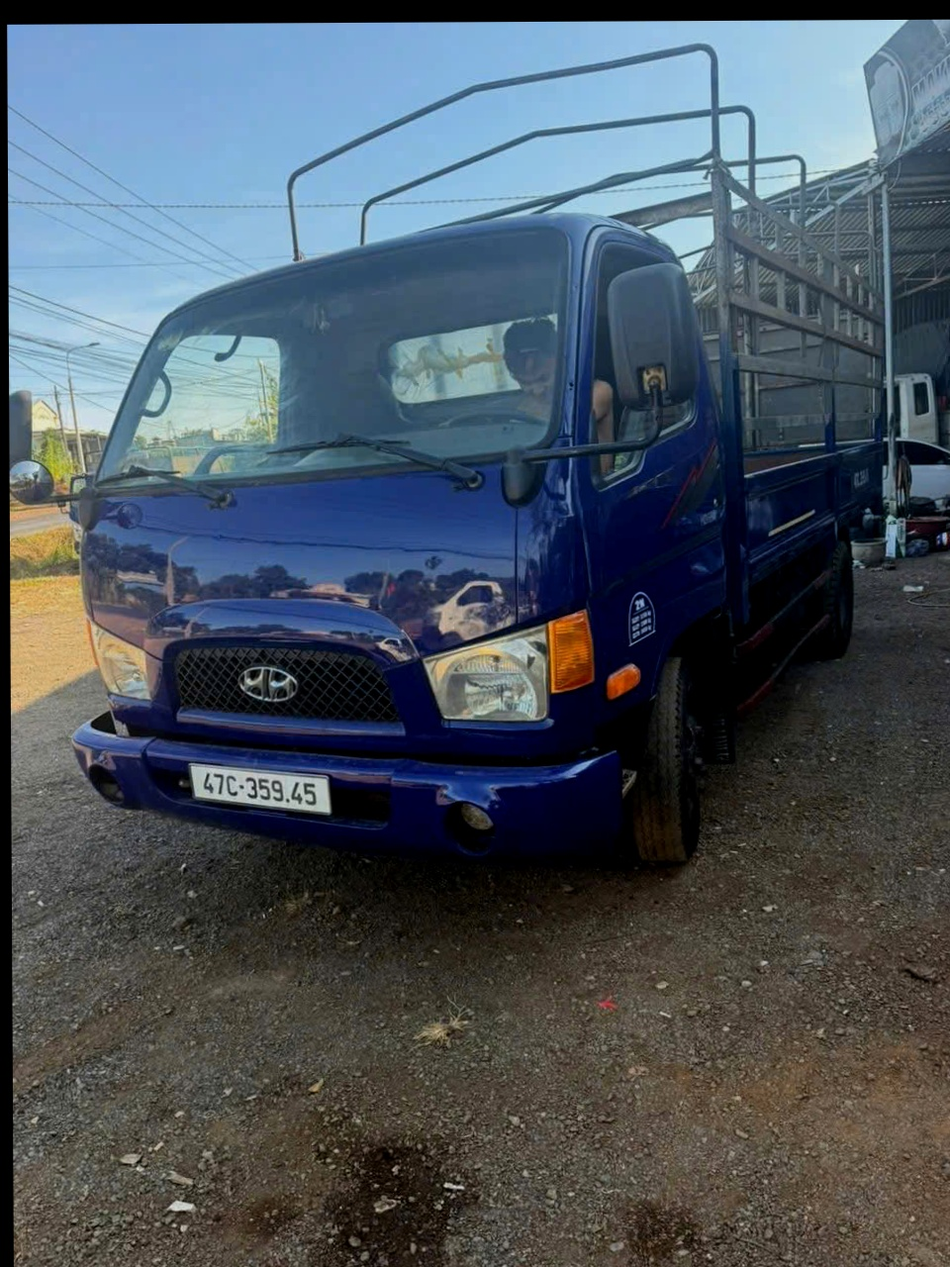Bien-so: (187, 739, 332, 800)
